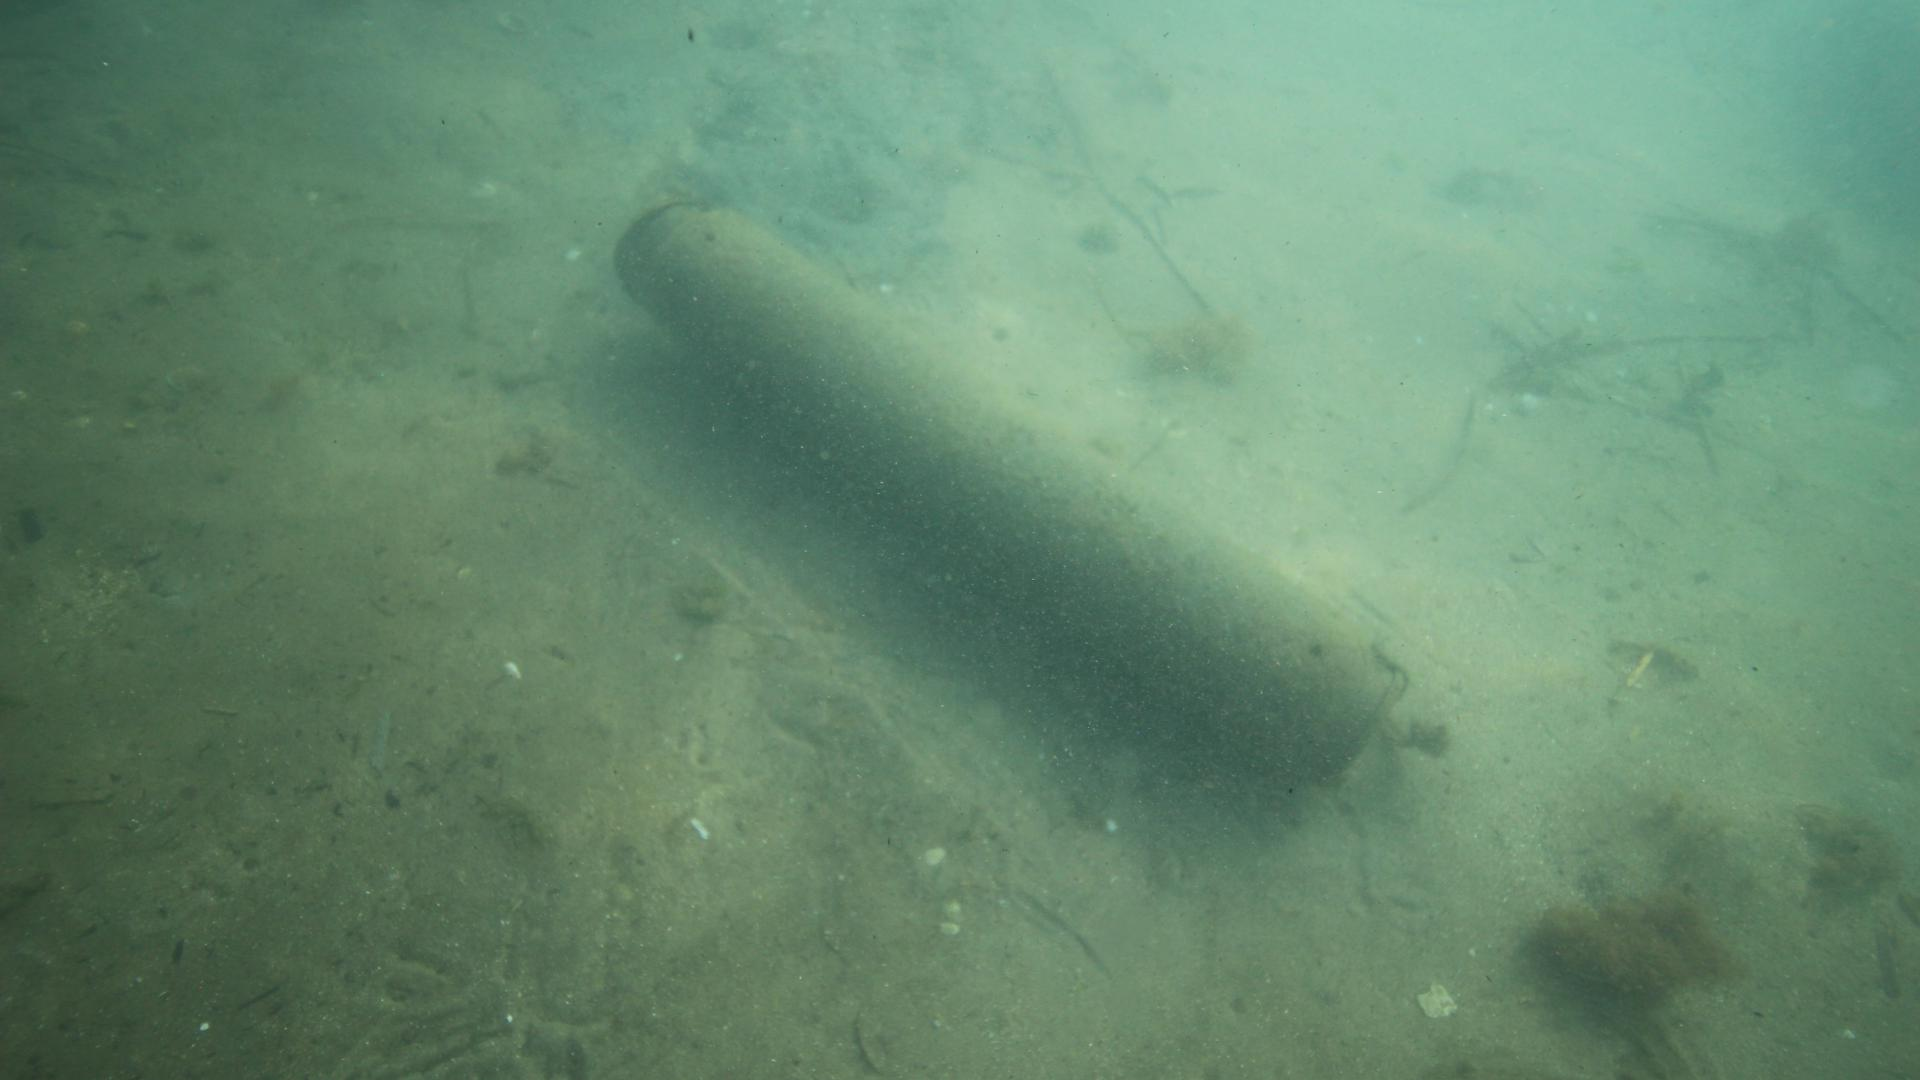eel fish trap: (609, 194, 1415, 793)
